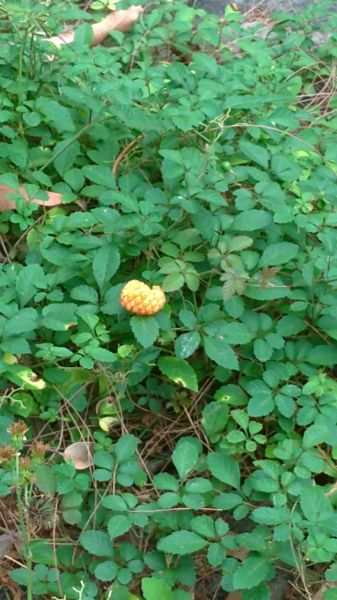eggs: (115, 278, 175, 317)
